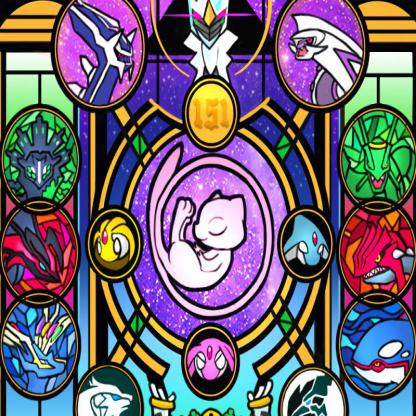Mew: (136, 146, 279, 333)
